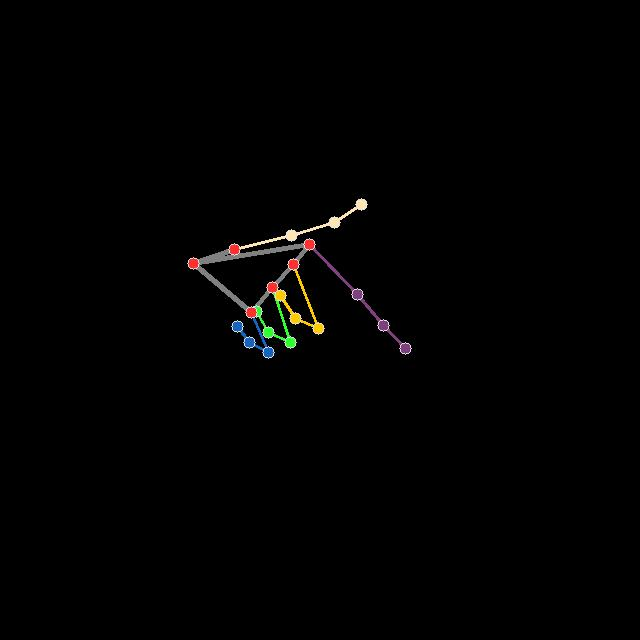gun: (187, 196, 414, 361)
